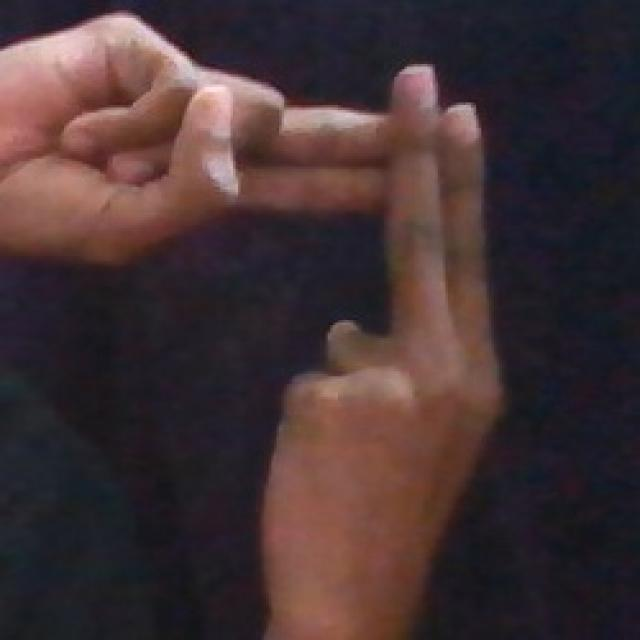Alphabet-F: (32, 14, 499, 597)
